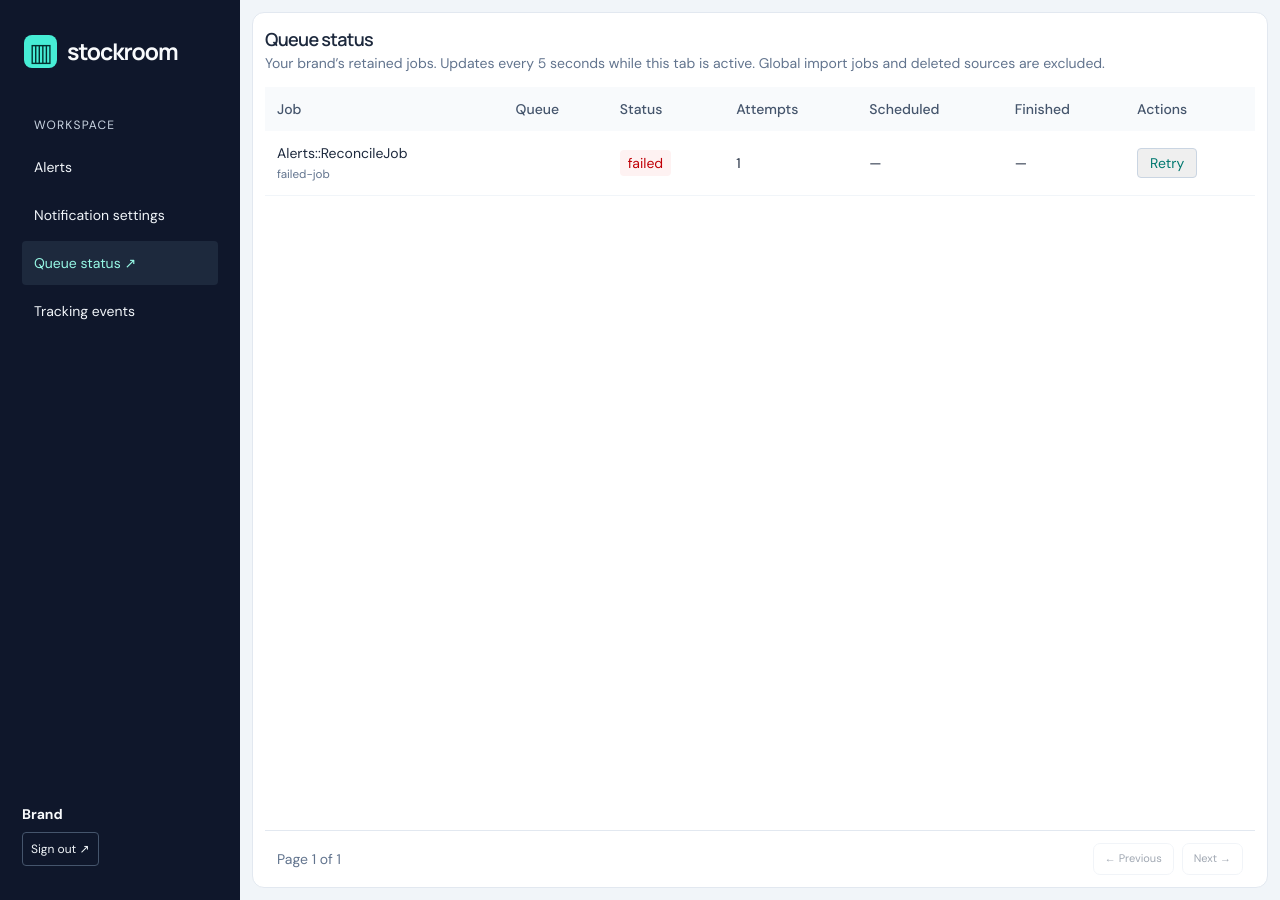
Test: shows a failed retry request and lets the user try again
Click the button with aria-label "Retry Alerts" at (1167, 163), box [1137,148,1197,178]
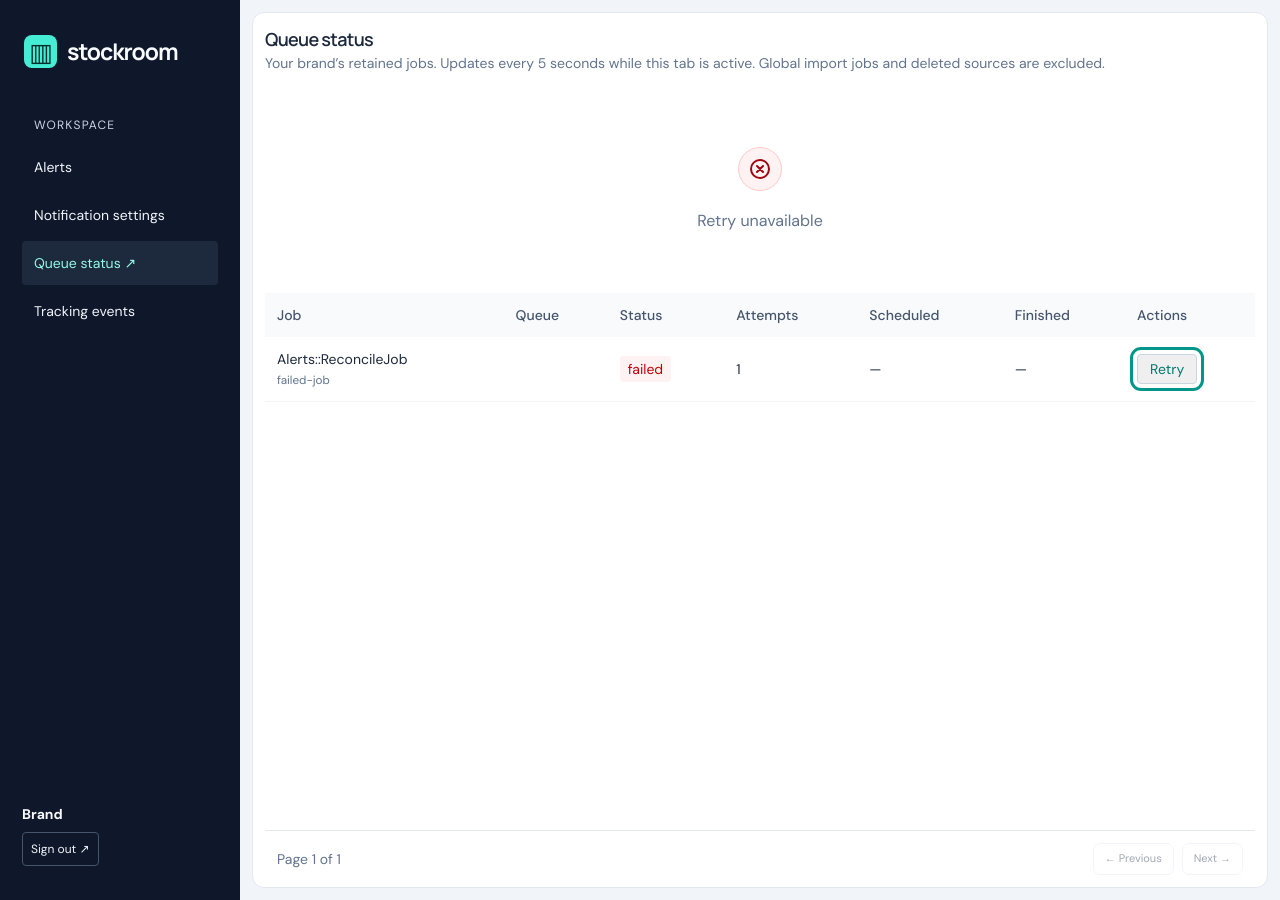
Expected: the button with aria-label "Retry Alerts" is enabled, [1137,354,1197,384]
Result: the message reads "Retry unavailable" at [697,210,823,231]
